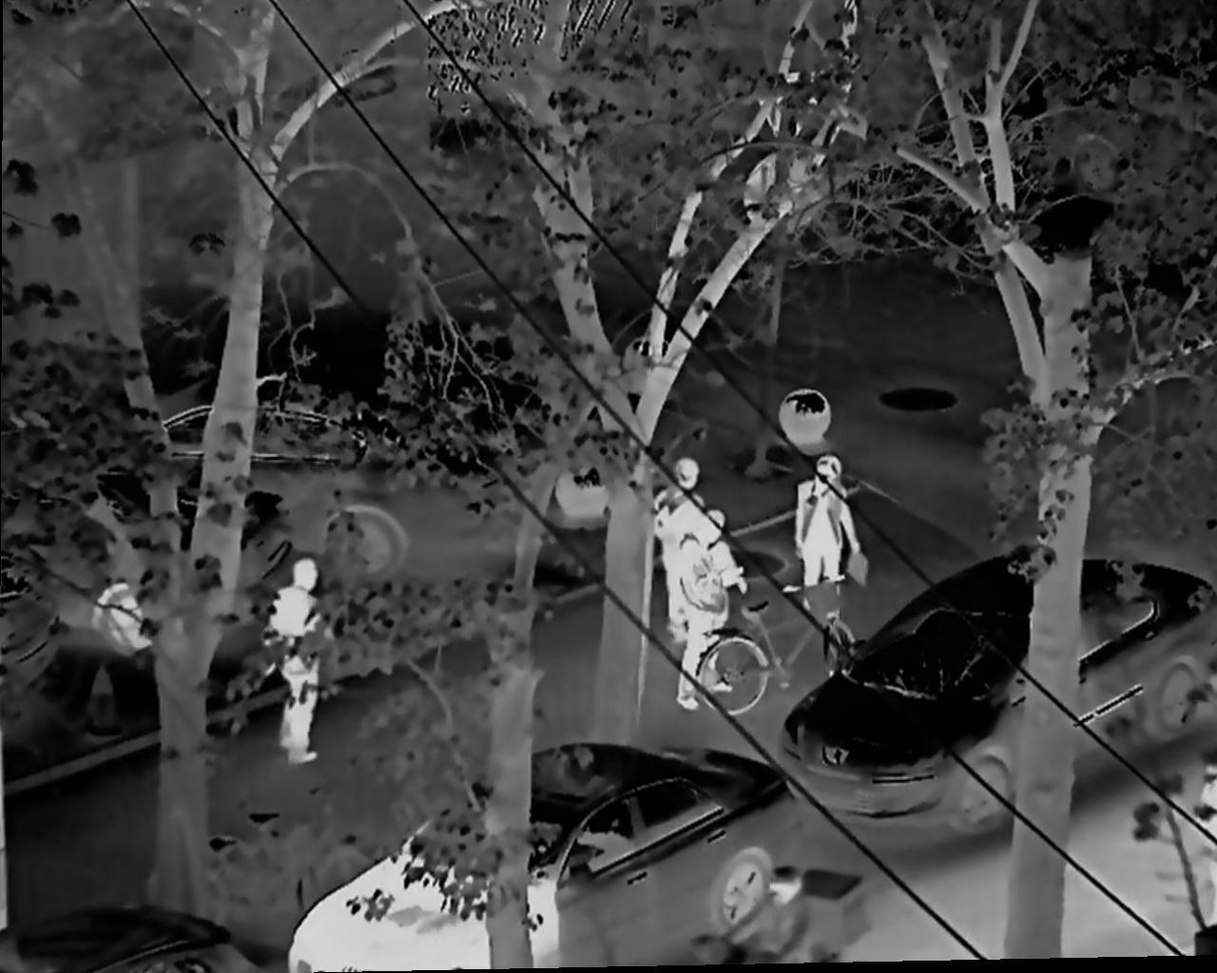person: (268, 557, 323, 767), (682, 509, 732, 709), (719, 866, 812, 973), (796, 455, 865, 588), (653, 462, 704, 640)
